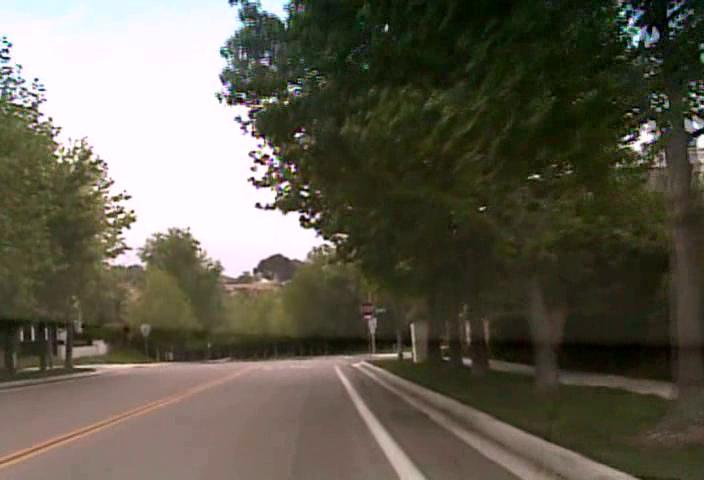stop: (358, 301, 375, 316)
